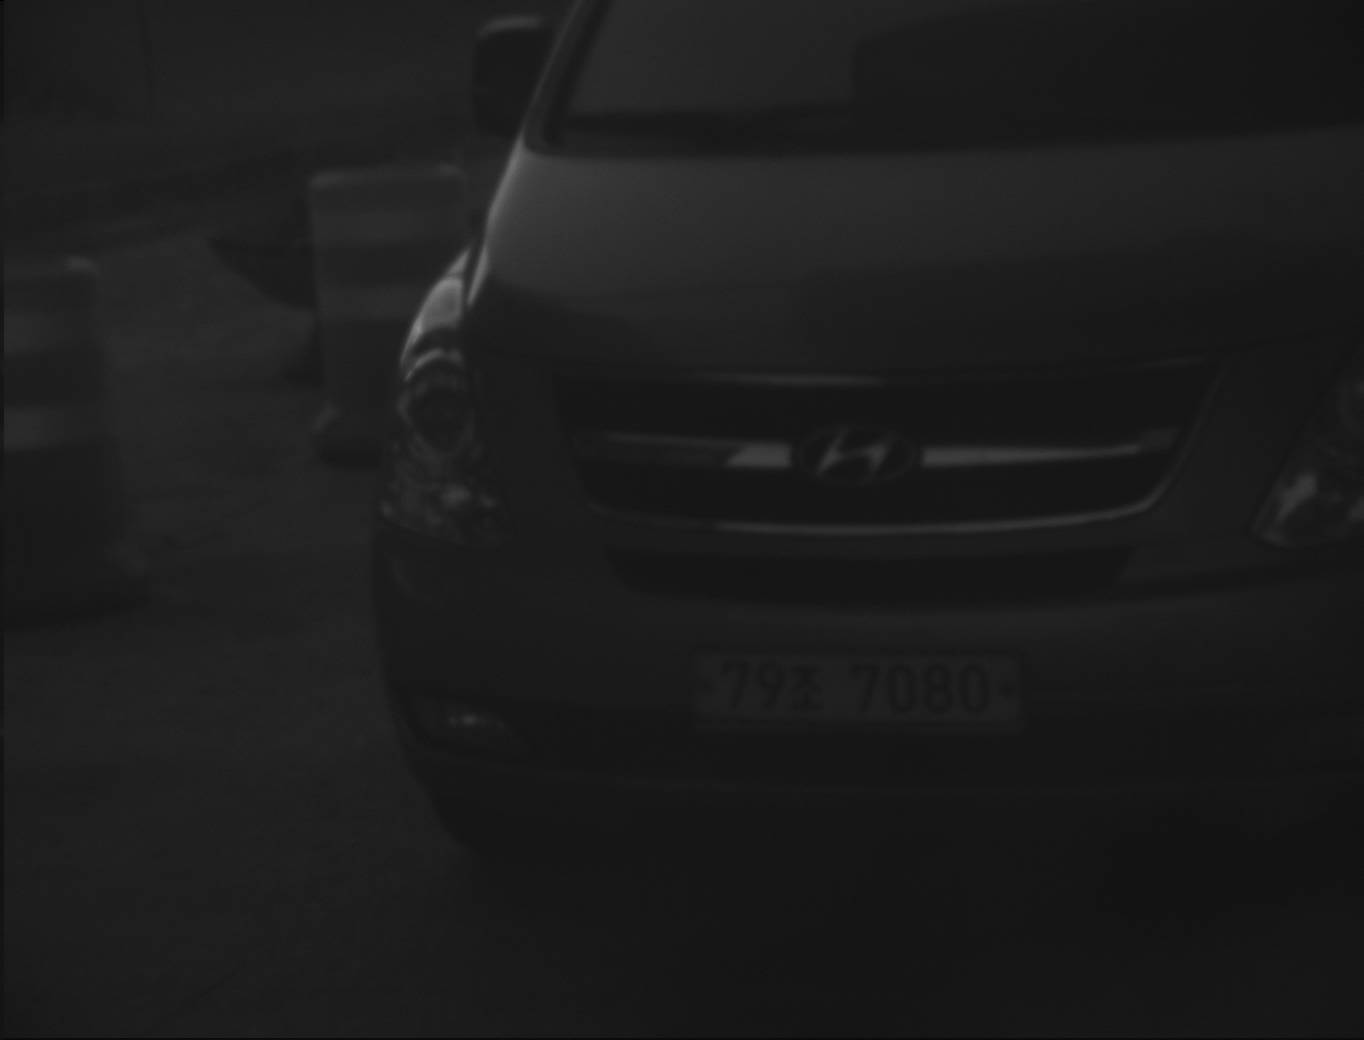car: (360, 1, 1356, 890)
plate: (683, 647, 1033, 733)
